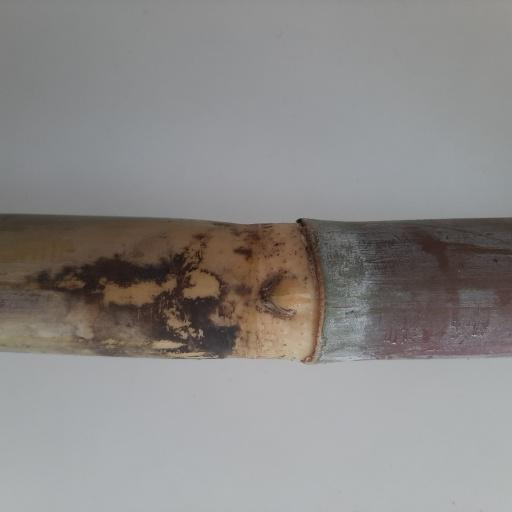Bud: (266, 276, 312, 315)
